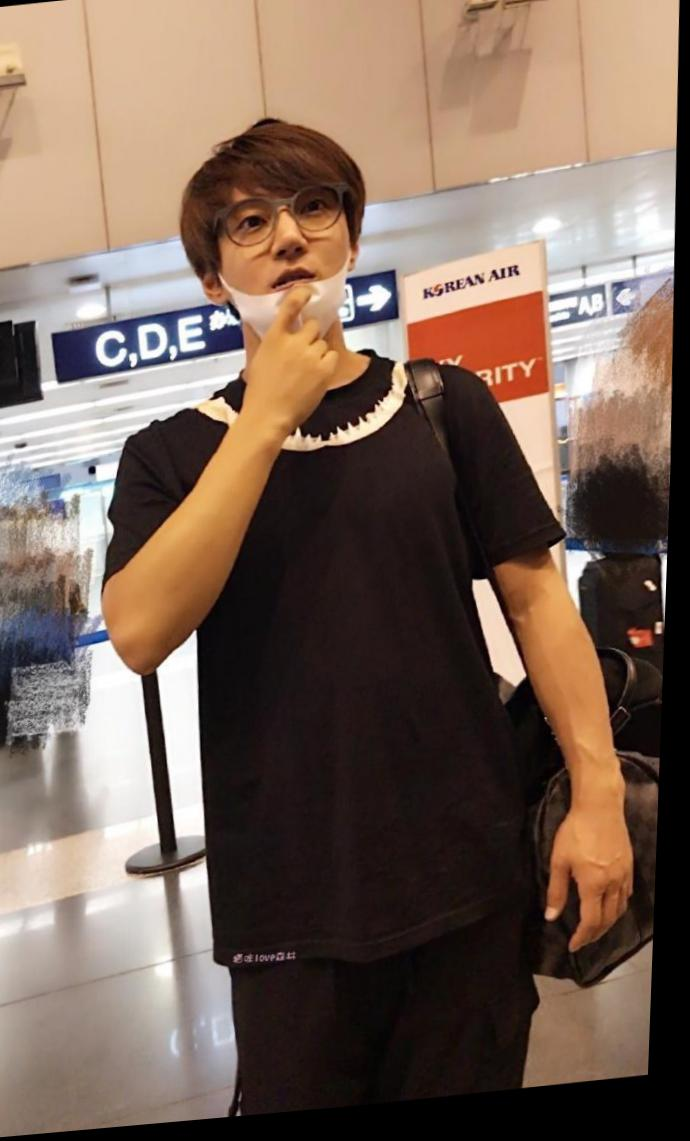WRONG: (211, 180, 356, 362)
